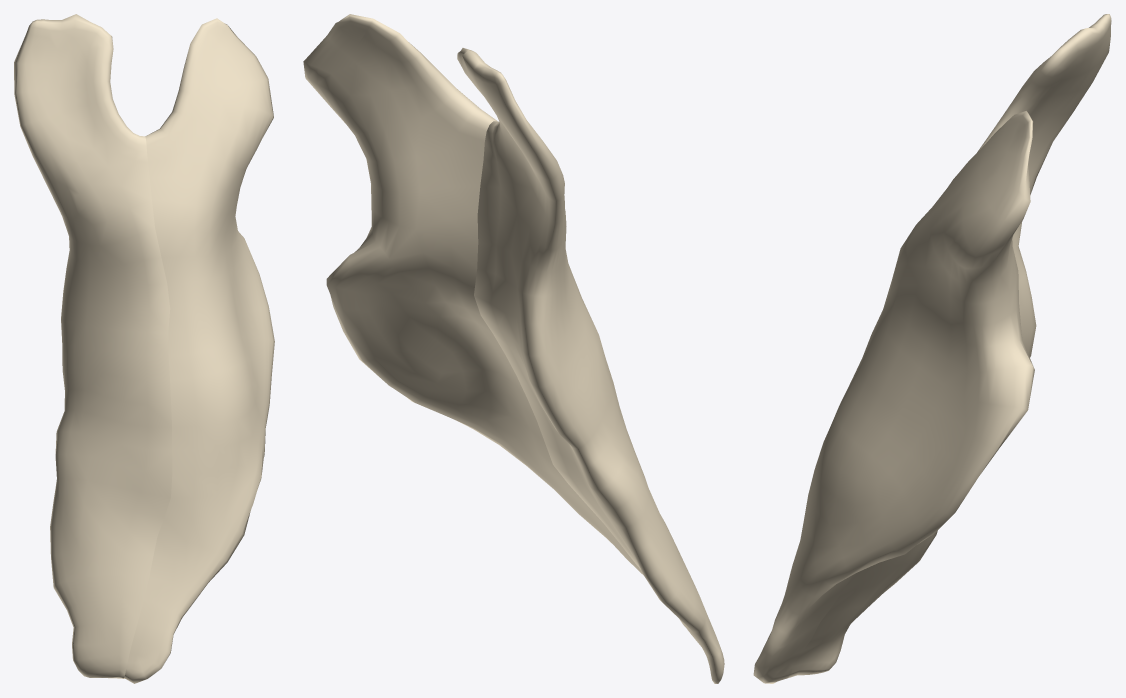
The model's file is thymus.glb.
3 views of the same model, side by side, from view 1: azimuth 30°, elevation 25°; view 2: azimuth 150°, elevation 25°; view 3: azimuth 270°, elevation 25° (orthographic). The views are drawn at different scales.
Parts seen in each view (by area): view 1: VH_M_thymus_lobe_L; view 2: VH_M_thymus_lobe_L; view 3: VH_M_thymus_lobe_L.
Part boxes in pixels (x1,y1,x2,y2): VH_M_thymus_lobe_L: (14, 14, 274, 683); VH_M_thymus_lobe_L: (303, 14, 724, 683); VH_M_thymus_lobe_L: (753, 14, 1111, 683).
Bounding box in the file's own units: 0.037 × 0.0757 × 0.0351.
